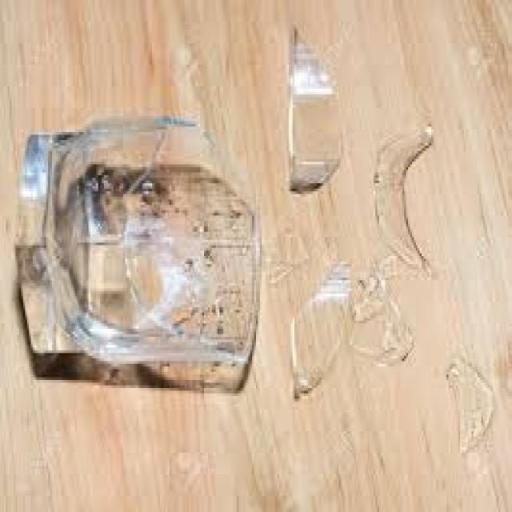glass: (10, 90, 276, 420), (286, 26, 342, 197), (372, 129, 435, 276), (290, 263, 354, 397), (445, 358, 497, 456), (285, 228, 310, 266)
